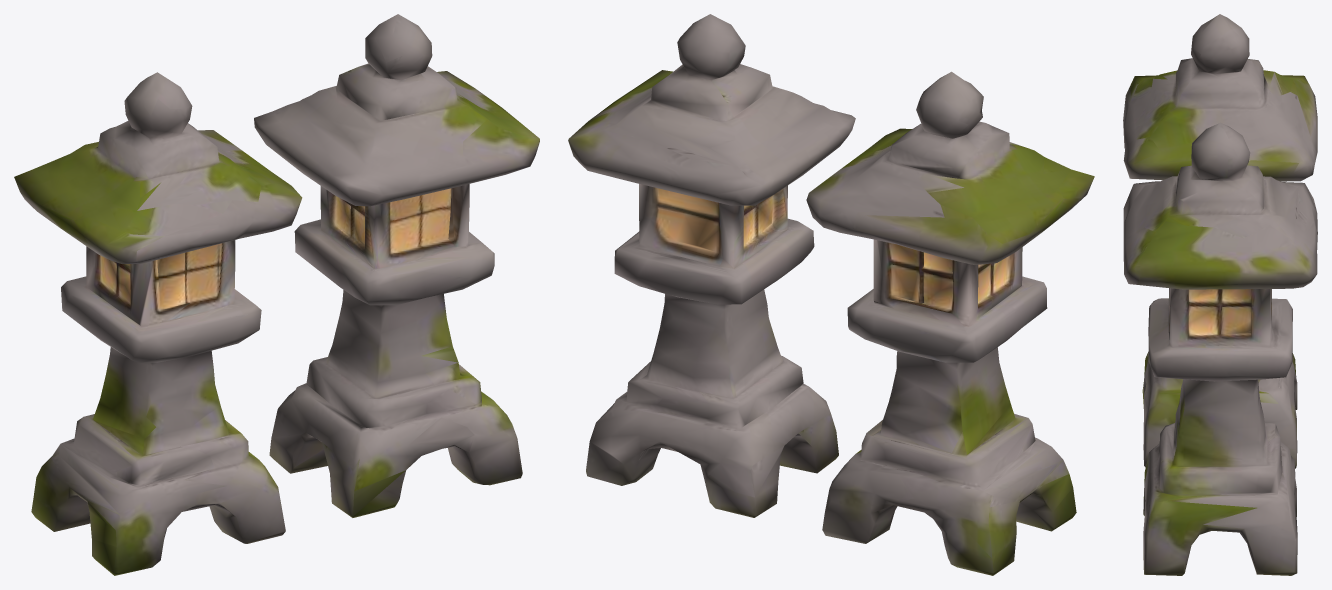
Rendered from stonelanterns.glb.
3 views of the same model, side by side, from view 1: azimuth 30°, elevation 25°; view 2: azimuth 150°, elevation 25°; view 3: azimuth 270°, elevation 25° (orthographic). The views are drawn at different scales.
Visible parts, largest first — view 1: model; view 2: model; view 3: model.
Part boxes in pixels (bbox=[...]): model: bbox=[14, 14, 539, 575]; model: bbox=[568, 14, 1094, 575]; model: bbox=[1123, 14, 1317, 575].
Bounding box in the file's own units: 1.9 × 1.87 × 0.7916.
1 material, 1 textured.
